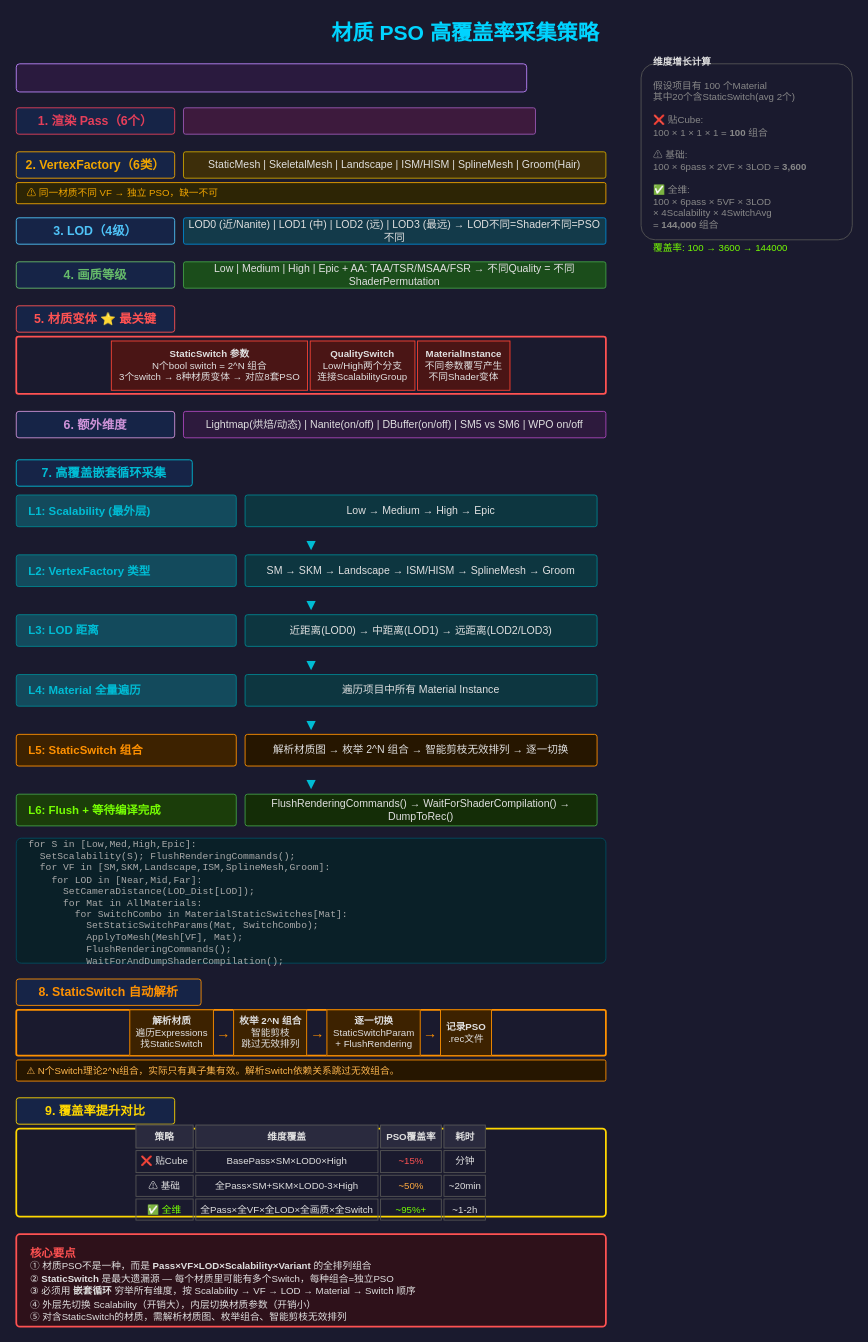
Some shapes in this 868 by 1342 pixel diagram are drawn without their labels. Here are the shapes that lost their labels. From the top down, the centre of each, then its label:
point (271, 77): PSO = Pass × VF × LOD × Scalability × MaterialVariant
point (359, 120): BasePass | Shadow(CSM/VSM) | CustomDepth | Translucency | Velocity | DepthOnly
